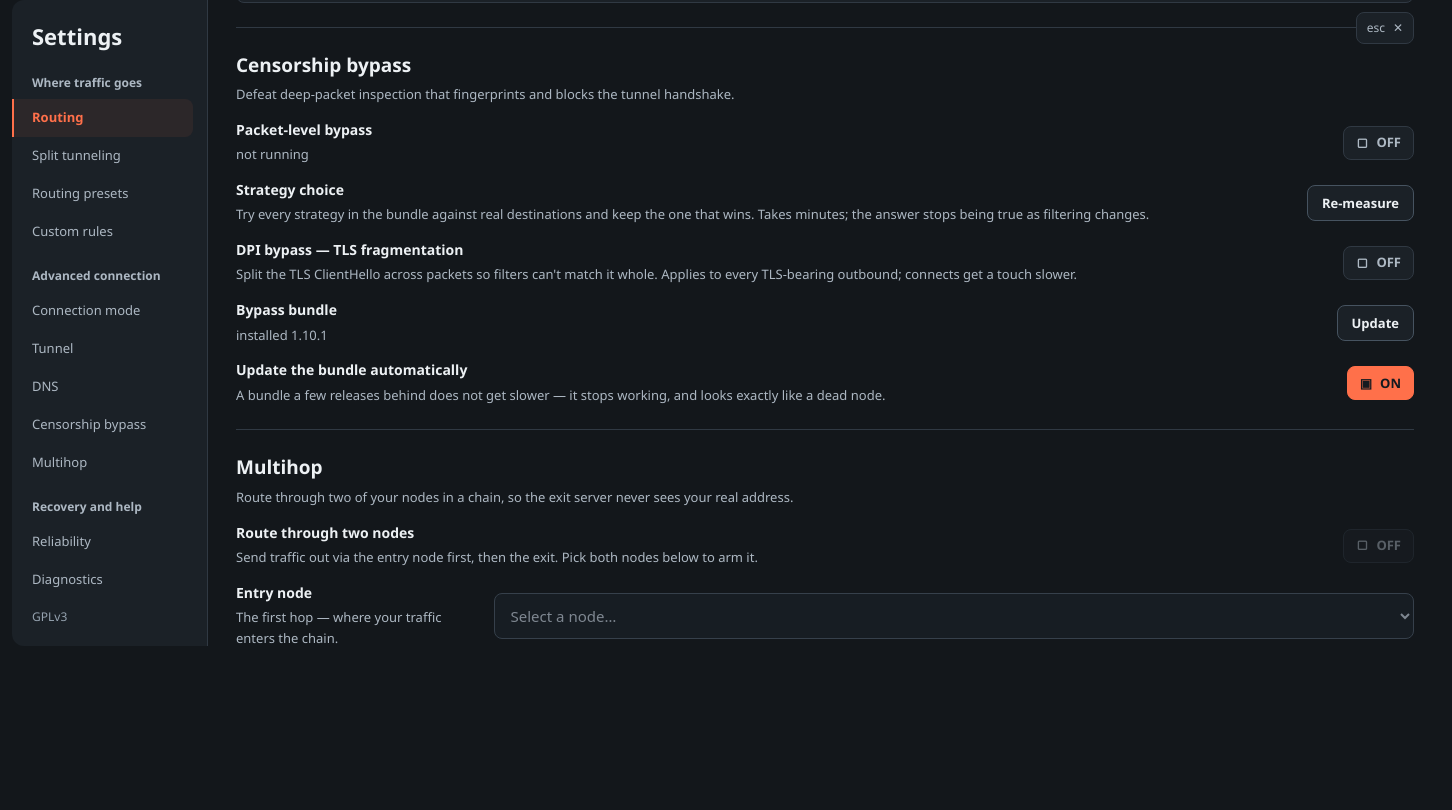
Scenario: SettingsScreen — bypass bundle › distinguishes 'already current' from an update
(page scrolled)
Click the button "Update" at (1375, 323), box [1336, 305, 1414, 341]
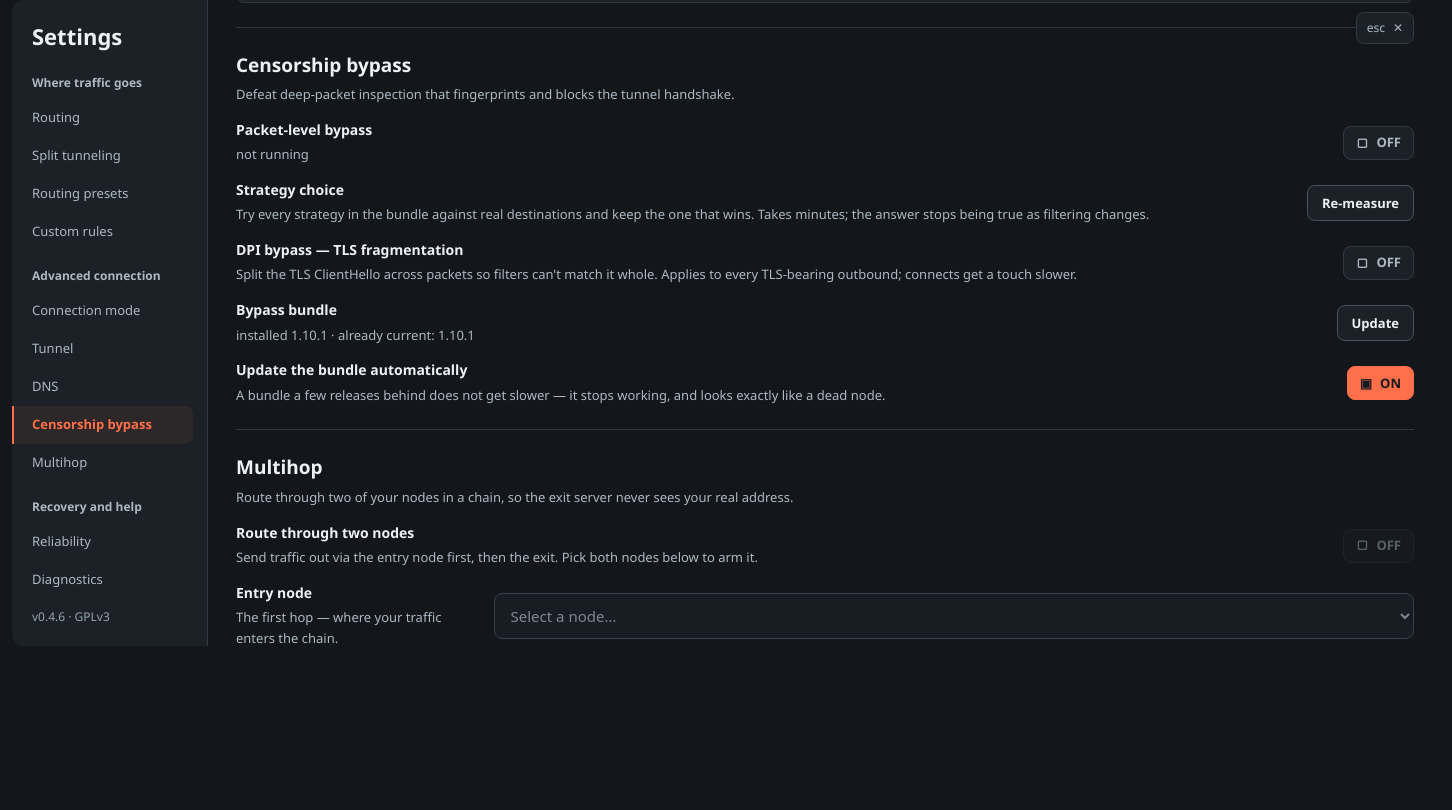
Now the text "installed 1.10.1 · already current: 1.10.1" is shown, box [236, 324, 475, 345]
